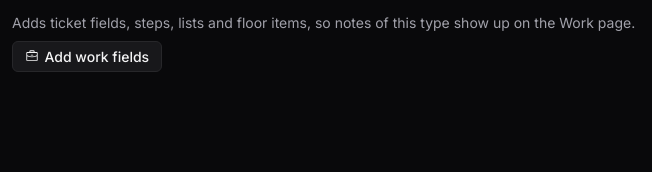
Test: WorkFieldsSection › a custom type adds the work fields and lists the skipped ones
Expected: the text "Adds ticket fields, steps, lists and floor items, so notes of this type show up on the Work page." is shown, [12,14,635,31]
Click the button "Add work fields": (87, 56) [12,41,162,72]
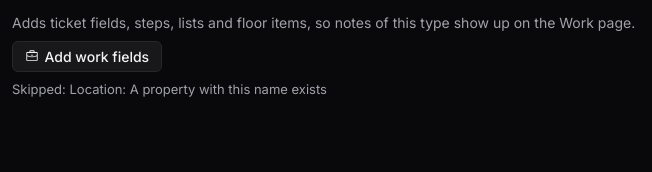
Expected: the text "Location: A property with this name exists" is shown, [70,80,327,96]
